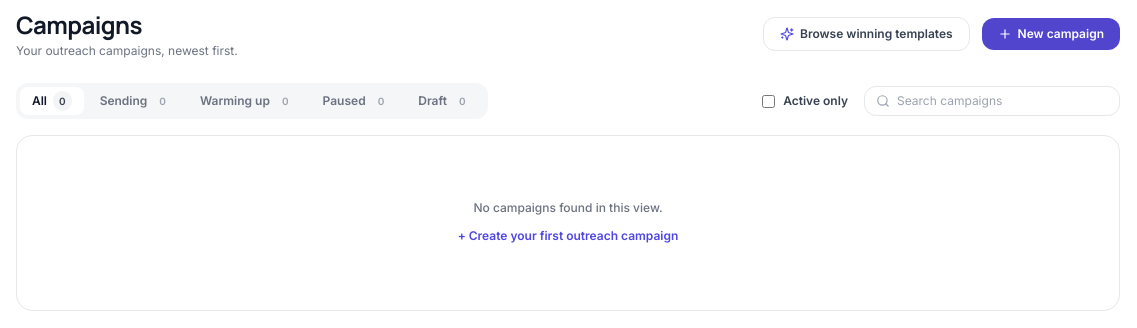
Test: Server-reviewed gallery selection › holds empty or malformed catalog without substituting starters 0
The image size is (1137, 328).
Click the button "Browse winning templates".
click(866, 34)  # box [763,17,970,51]
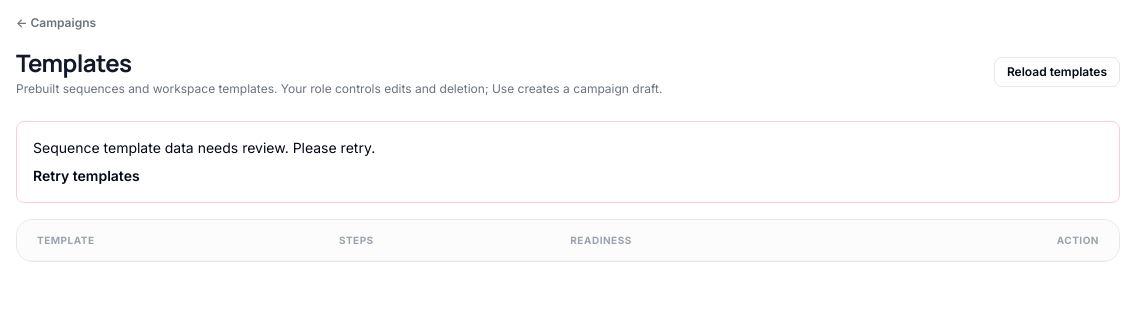
Result: the text "Sequence template data needs review. Please retry." is shown at [33,139,375,156]
